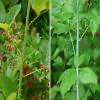Raspberry leaf: (59, 69, 76, 98), (5, 2, 21, 25), (79, 67, 99, 85), (40, 39, 50, 69), (73, 53, 91, 68), (89, 16, 100, 38), (50, 21, 68, 33), (70, 16, 79, 30), (82, 14, 94, 20)
